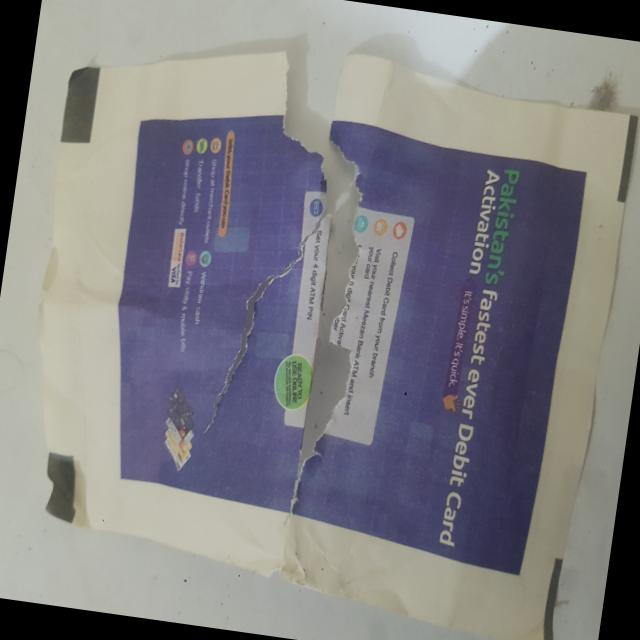electronic: (277, 54, 640, 640), (6, 21, 356, 574)
